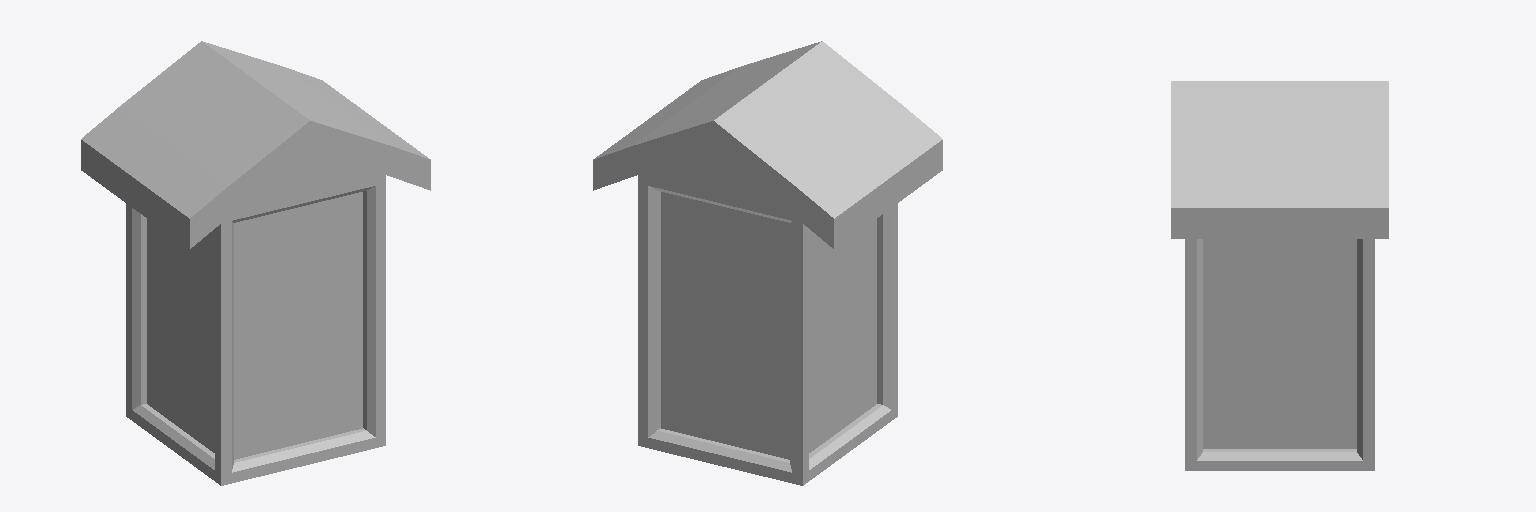
Rendered from torch.obj.
3 renders of one model, left to right at view 1: azimuth 30°, elevation 25°; view 2: azimuth 150°, elevation 25°; view 3: azimuth 270°, elevation 25°, orthographic.
Parts seen in each view (by area): view 1: torch; view 2: torch; view 3: torch.
Boxes of the visible parts, x1=… form: torch: x1=81, y1=41, x2=430, y2=485; torch: x1=593, y1=41, x2=942, y2=485; torch: x1=1171, y1=81, x2=1388, y2=470.
Size of the model in its own units: 3.02 by 4.19 by 2.36.